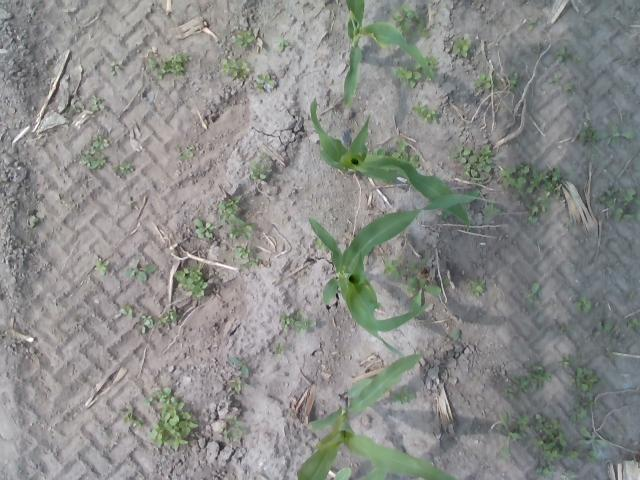Maize: (308, 192, 497, 359), (298, 355, 459, 480), (339, 0, 433, 108), (330, 466, 389, 480)
Weeds: (310, 96, 472, 233), (500, 163, 563, 224), (144, 386, 199, 450), (448, 143, 494, 186), (532, 413, 568, 461), (218, 194, 255, 240), (496, 412, 532, 458), (388, 5, 432, 40), (601, 184, 640, 222), (405, 275, 442, 315), (174, 264, 208, 298), (514, 363, 552, 393), (80, 134, 110, 170), (144, 55, 190, 78), (278, 310, 316, 334), (570, 366, 600, 396), (392, 138, 421, 169), (578, 425, 609, 450), (602, 124, 636, 146), (125, 258, 156, 282), (394, 63, 422, 89), (248, 152, 273, 180), (219, 56, 249, 78), (415, 55, 439, 82), (412, 101, 440, 124), (570, 400, 598, 422), (578, 120, 600, 144), (596, 320, 617, 344), (383, 256, 404, 279), (223, 416, 243, 440), (194, 218, 216, 239), (558, 352, 586, 368), (230, 356, 250, 378), (452, 36, 472, 57), (254, 73, 276, 92), (392, 385, 414, 404), (119, 408, 142, 426), (233, 30, 256, 48), (574, 296, 594, 316), (535, 460, 556, 478), (157, 309, 181, 324), (469, 278, 487, 298), (482, 202, 501, 220), (524, 282, 539, 304), (473, 73, 492, 90), (93, 258, 110, 276), (139, 314, 154, 334), (112, 160, 133, 174), (88, 95, 105, 112), (554, 46, 572, 62), (406, 258, 427, 271), (560, 467, 579, 480), (238, 258, 260, 269), (66, 102, 85, 114), (276, 36, 290, 52), (118, 305, 136, 317), (234, 244, 248, 259), (109, 60, 124, 74), (230, 379, 247, 391), (566, 448, 582, 460), (506, 73, 518, 89), (526, 16, 538, 32), (181, 146, 194, 160), (586, 450, 600, 463), (440, 208, 453, 221), (627, 316, 639, 330), (314, 236, 326, 250), (554, 72, 566, 85), (502, 387, 516, 398), (372, 147, 389, 156), (275, 342, 286, 354), (452, 328, 462, 341), (566, 84, 576, 95), (560, 324, 572, 333), (573, 54, 582, 64), (565, 219, 574, 229), (587, 153, 596, 162), (374, 300, 382, 310), (443, 278, 450, 286)
